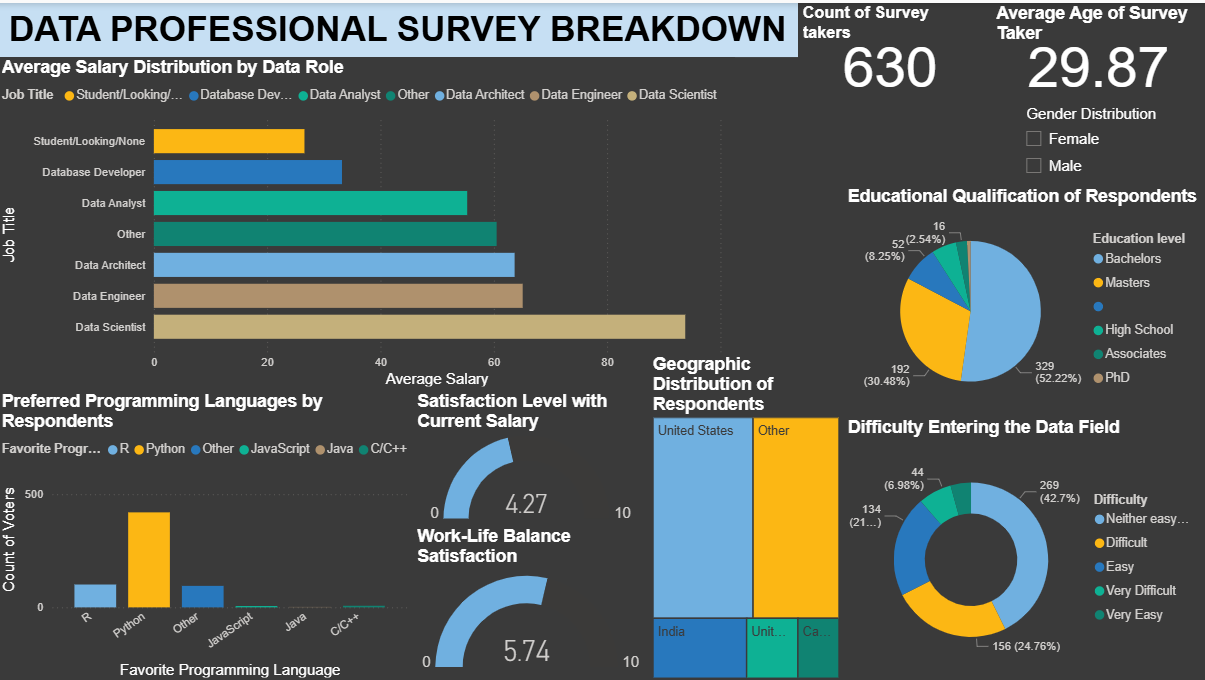

What the dashboard file says about the page in this screenshot:
{"tool":"powerbi","page":{"name":"Page 1","canvas":[1280,720],"ordinal":0},"visuals":[{"type":"textbox","box":[0,0,850,57.1],"z":0},{"type":"card","title":"Count of Survey takers","fields":{"Values":["Count(Data Professional Survey.Unique ID)"]},"box":[850,0,194.3,102.9],"z":1000},{"type":"card","title":"Average Age of Survey Taker","fields":{"Values":["Avg(Data Professional Survey.Q10 - Current Age)"]},"box":[1054.3,0,225.7,102.9],"z":2000},{"type":"barChart","title":"Average Salary Distribution by Data Role","fields":{"Category":["Data Professional Survey.Q1 - Which Title Best Fits your Current Role?.1"],"Y":["Avg(Data Professional Survey.Average Salary)"],"Series":["Data Professional Survey.Q1 - Which Title Best Fits your Current Role?.1"]},"box":[0,57.1,782.9,354.3],"z":3000},{"type":"columnChart","title":"Preferred Programming Languages by Respondents","fields":{"Category":["Data Professional Survey.Q5 - Favorite Programming Language.1"],"Y":["CountNonNull(Data Professional Survey.Unique ID)"],"Series":["Data Professional Survey.Q5 - Favorite Programming Language.1"]},"box":[0,411.4,440,308.6],"z":4000},{"type":"treemap","title":"Geographic Distribution of Respondents","fields":{"Group":["Data Professional Survey.Q11 - Which Country do you live in?.1"],"Values":["CountNonNull(Data Professional Survey.Q11 - Which Country do you live in?.1)"]},"box":[690,371.4,207.1,348.6],"z":5000},{"type":"gauge","title":"Work-Life Balance Satisfaction","fields":{"Y":["Avg(Data Professional Survey.Q6 - How Happy are you in your Current Position with the following? (Work/Life Balance))"],"MinValue":["Min(Data Professional Survey.Q6 - How Happy are you in your Current Position with the following? (Work/Life Balance))1"],"MaxValue":["Max(Data Professional Survey.Q6 - How Happy are you in your Current Position with the following? (Work/Life Balance))2"]},"box":[440,555.7,250,164.3],"z":6000},{"type":"gauge","title":"Satisfaction Level with Current Salary","fields":{"Y":["Avg(Data Professional Survey.Q6 - How Happy are you in your Current Position with the following? (Salary))"],"MinValue":["Min(Data Professional Survey.Q6 - How Happy are you in your Current Position with the following? (Salary))"],"MaxValue":["Max(Data Professional Survey.Q6 - How Happy are you in your Current Position with the following? (Salary))"]},"box":[440,411.4,250,144.3],"z":7000},{"type":"donutChart","title":"Difficulty Entering the Data Field","fields":{"Category":["Data Professional Survey.Q7 - How difficult was it for you to break into Data?"],"Y":["CountNonNull(Data Professional Survey.Q7 - How difficult was it for you to break into Data?)"]},"box":[897.1,438.6,382.9,281.4],"z":8000},{"type":"pieChart","title":"Educational Qualification of Respondents","fields":{"Category":["Data Professional Survey.Q12 - Highest Level of Education"],"Y":["CountNonNull(Data Professional Survey.Q12 - Highest Level of Education)"]},"box":[897.1,194.3,382.9,244.3],"z":9000},{"type":"slicer","title":"Gender Distribution","fields":{"Values":["Data Professional Survey.Q9 - Male/Female?"]},"box":[1078.4,103.4,202,90.7],"z":10000}]}

Visuals, with their boxes in screenshot pixels (x1, y1, x2, y2), scaled from the page's 1280x720 canvas onto the 1205x680 screenshot:
textbox: (0, 0, 800, 54)
"Count of Survey takers" card: (800, 0, 983, 97)
"Average Age of Survey Taker" card: (993, 0, 1204, 97)
"Average Salary Distribution by Data Role" barChart: (0, 54, 737, 389)
"Preferred Programming Languages by Respondents" columnChart: (0, 389, 414, 679)
"Geographic Distribution of Respondents" treemap: (650, 351, 845, 679)
"Work-Life Balance Satisfaction" gauge: (414, 525, 650, 679)
"Satisfaction Level with Current Salary" gauge: (414, 389, 650, 525)
"Difficulty Entering the Data Field" donutChart: (845, 414, 1204, 679)
"Educational Qualification of Respondents" pieChart: (845, 184, 1204, 414)
"Gender Distribution" slicer: (1015, 98, 1204, 183)
